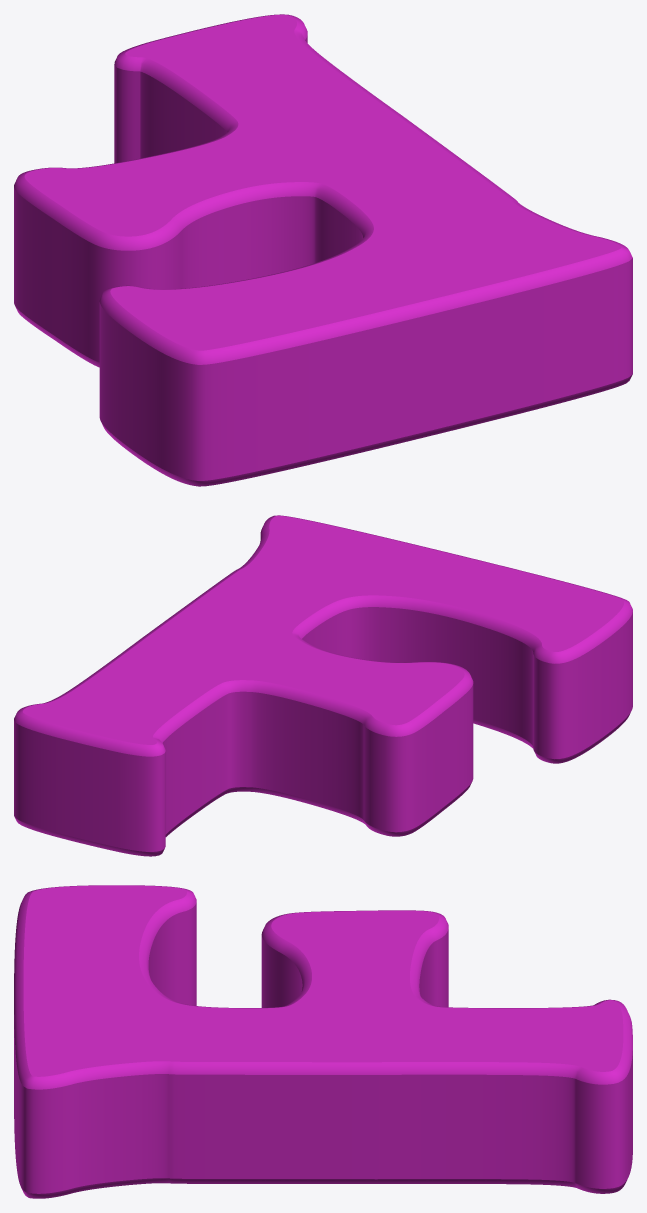
Rendered from Bubble_LetterF.fbx.
The picture shows the model from 3 angles, top to bottom: view 1: azimuth 30°, elevation 25°; view 2: azimuth 150°, elevation 25°; view 3: azimuth 270°, elevation 25°; orthographic projection. The views are drawn at different scales.
Parts seen in each view (by area): view 1: BubbleLetter_F; view 2: BubbleLetter_F; view 3: BubbleLetter_F.
Boxes of the visible parts, x1,y1,x2,y2 form: BubbleLetter_F: [14, 14, 632, 486]; BubbleLetter_F: [14, 515, 632, 856]; BubbleLetter_F: [14, 885, 632, 1198].
Size of the model in its own units: 0.4924 by 0.14 by 0.6458.
